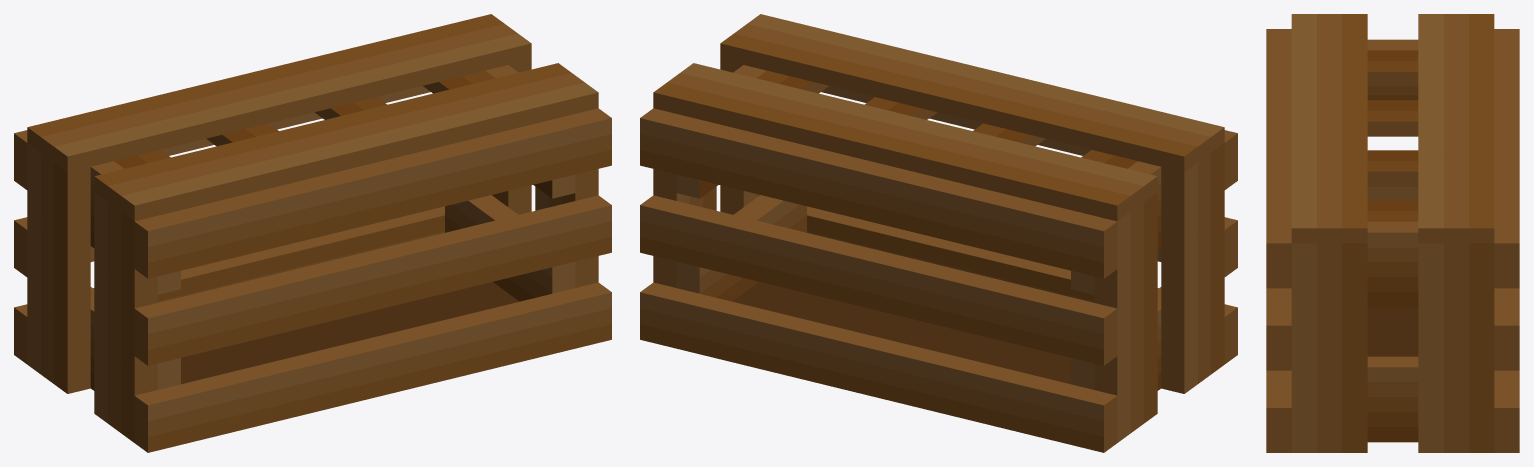
The model's file is crate_804x00.gltf.
3 views of the same model, side by side, from view 1: azimuth 30°, elevation 25°; view 2: azimuth 150°, elevation 25°; view 3: azimuth 270°, elevation 25° (orthographic). The views are drawn at different scales.
Parts seen in each view (by area): view 1: Crate; view 2: Crate; view 3: Crate.
Part boxes in pixels (left/top/right/bottom): Crate: left=14, top=14, right=611, bottom=452; Crate: left=640, top=14, right=1237, bottom=452; Crate: left=1266, top=14, right=1519, bottom=452.
Size of the model in its own units: 1.98 by 0.9687 by 0.9902.
1 material, 1 textured.
